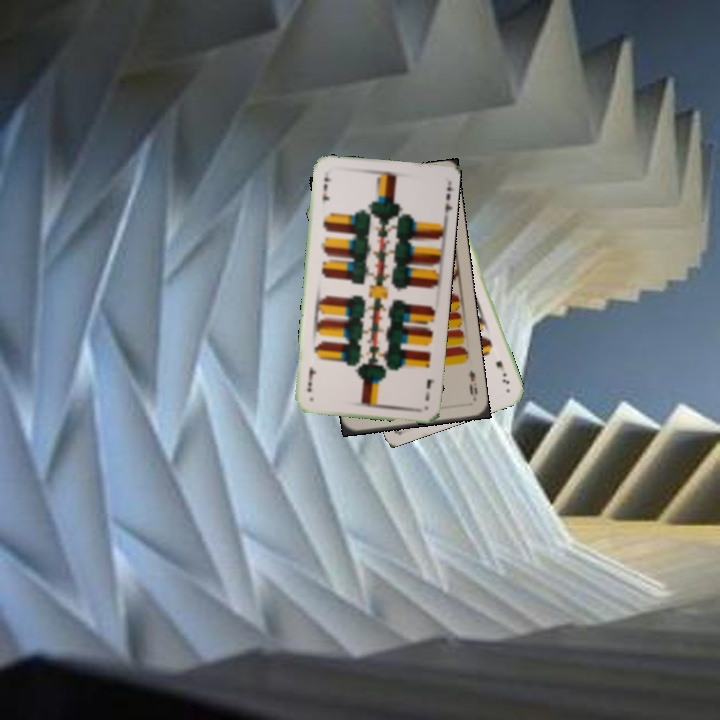E7: (492, 357, 512, 387), (319, 173, 334, 207), (421, 375, 437, 403)
E9: (465, 367, 480, 403)
